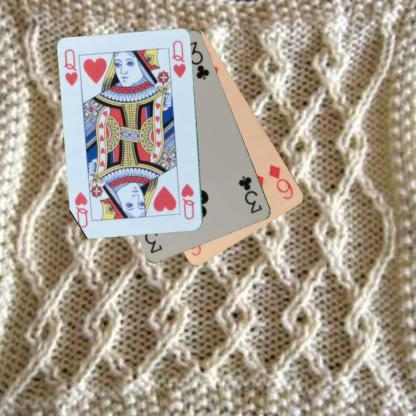3c: (236, 173, 263, 215)
6d: (266, 162, 296, 201)
Qh: (61, 46, 79, 87), (178, 181, 196, 221)
